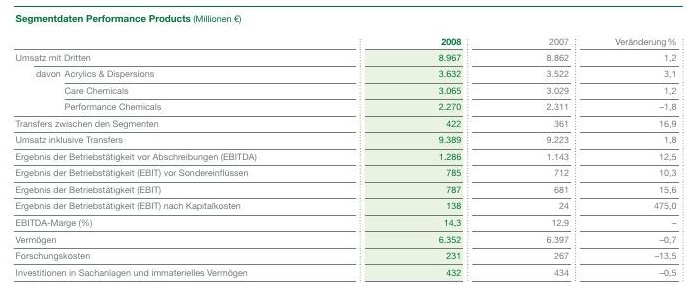table: (0, 0, 694, 292)
